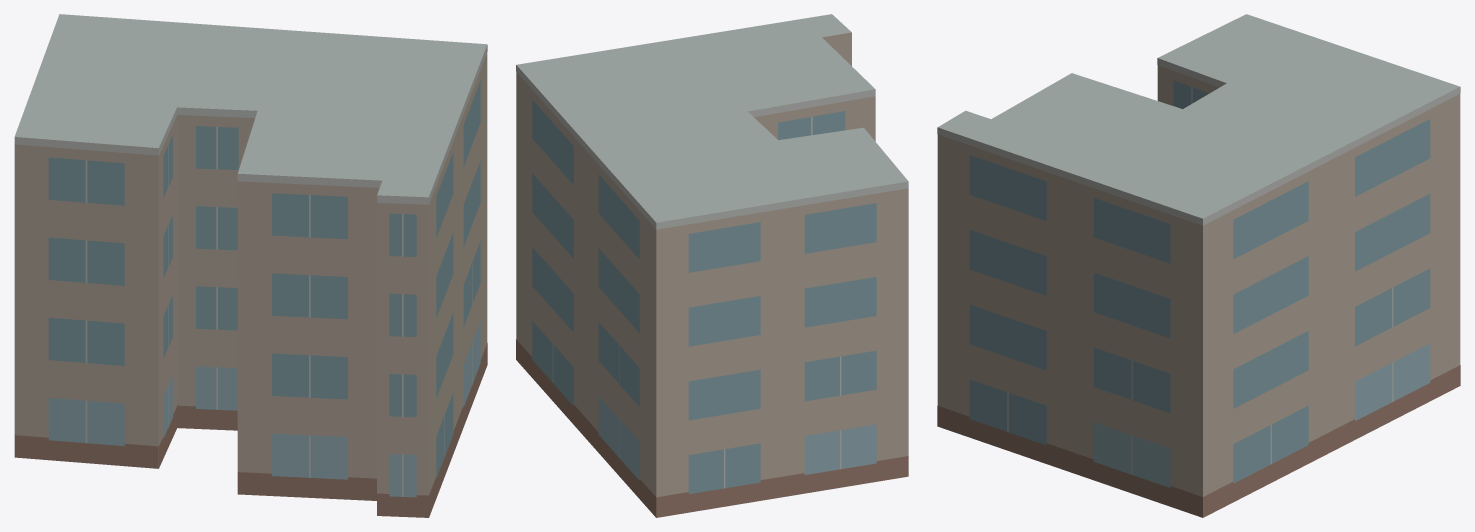
Rendered from survey-upis-32792406.glb.
The picture shows the model from 3 angles, left to right: view 1: azimuth 30°, elevation 25°; view 2: azimuth 150°, elevation 25°; view 3: azimuth 270°, elevation 25°; orthographic projection. The views are drawn at different scales.
Visible parts, largest first — view 1: survey-upis-32792406.tmp; view 2: survey-upis-32792406.tmp; view 3: survey-upis-32792406.tmp.
Part boxes in pixels (left/top/right/bottom): survey-upis-32792406.tmp: left=14, top=14, right=487, bottom=517; survey-upis-32792406.tmp: left=516, top=14, right=908, bottom=517; survey-upis-32792406.tmp: left=937, top=14, right=1460, bottom=517.
Bounding box in the file's own units: 15.42 × 10.5 × 16.64.
